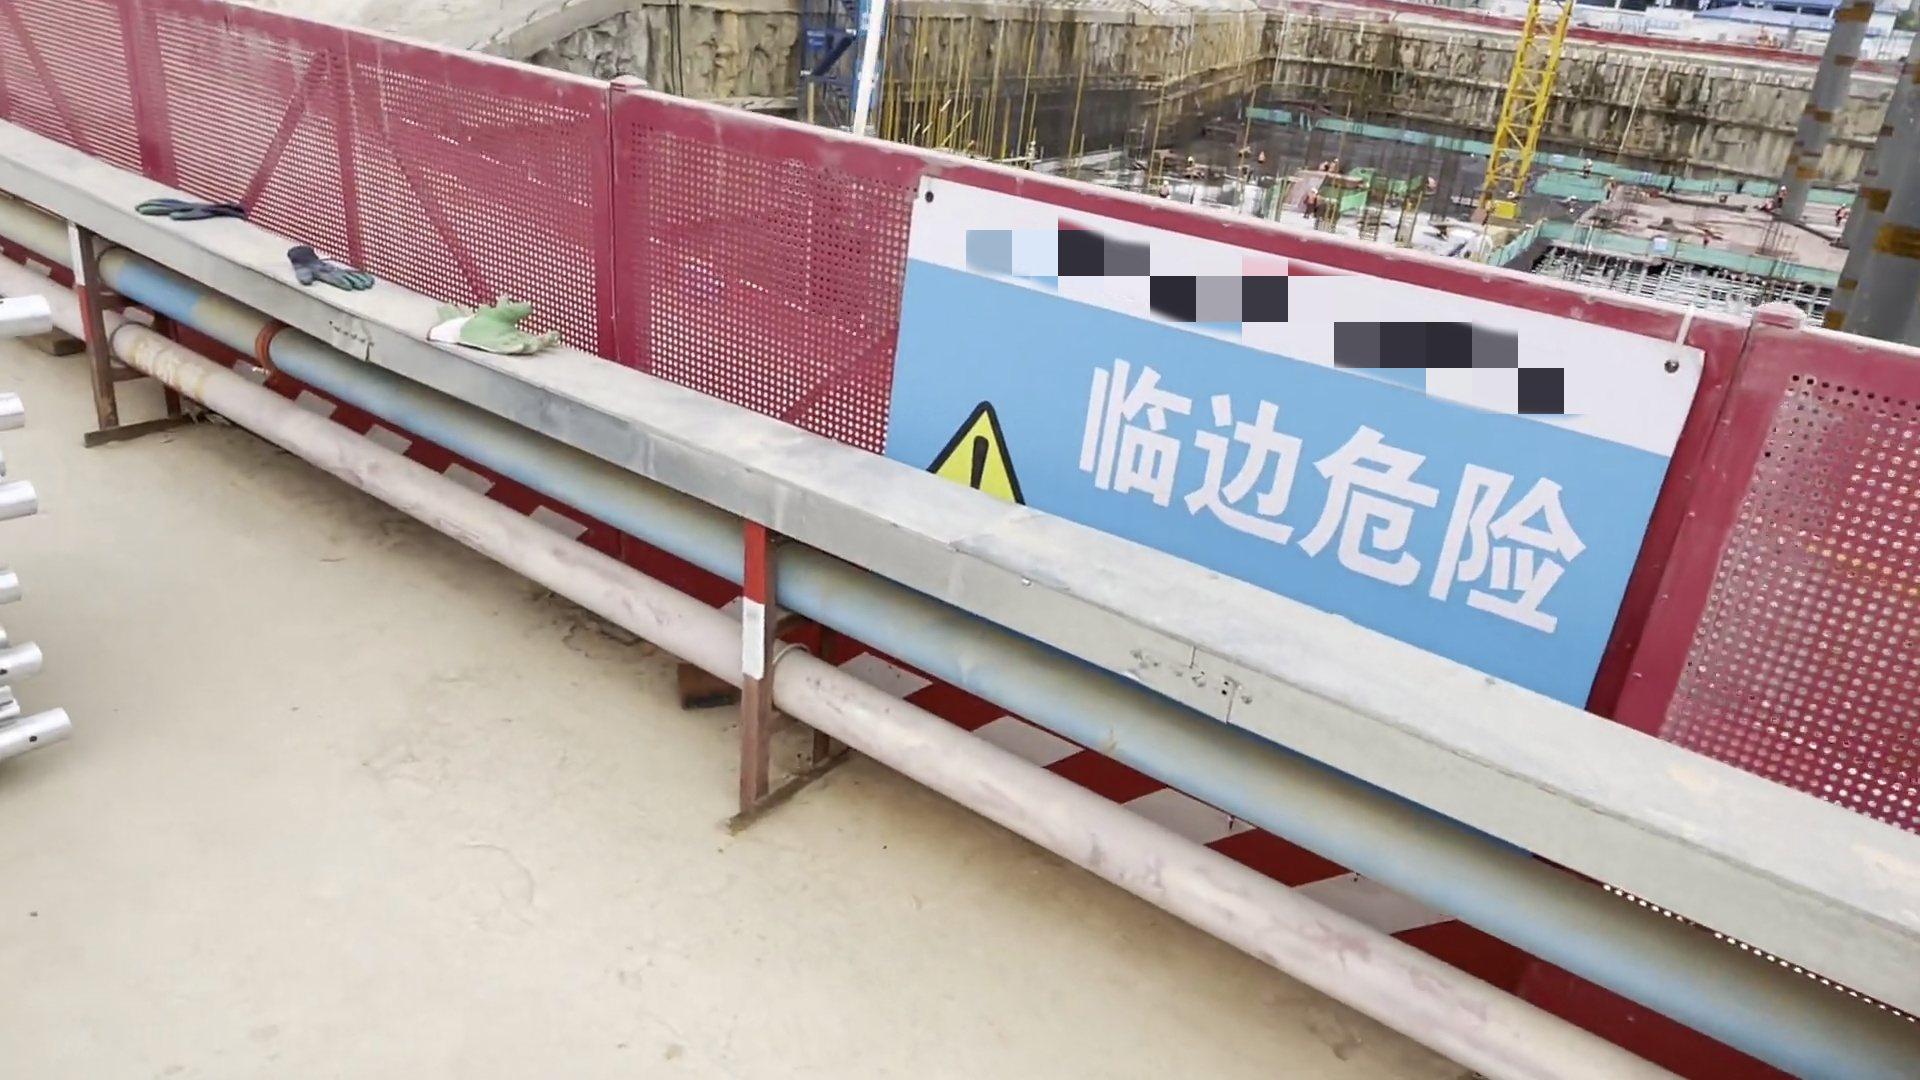fence: (1597, 323, 1920, 885), (146, 8, 603, 360), (603, 96, 891, 458), (3, 4, 149, 181)
slogan: (978, 331, 1590, 671)
